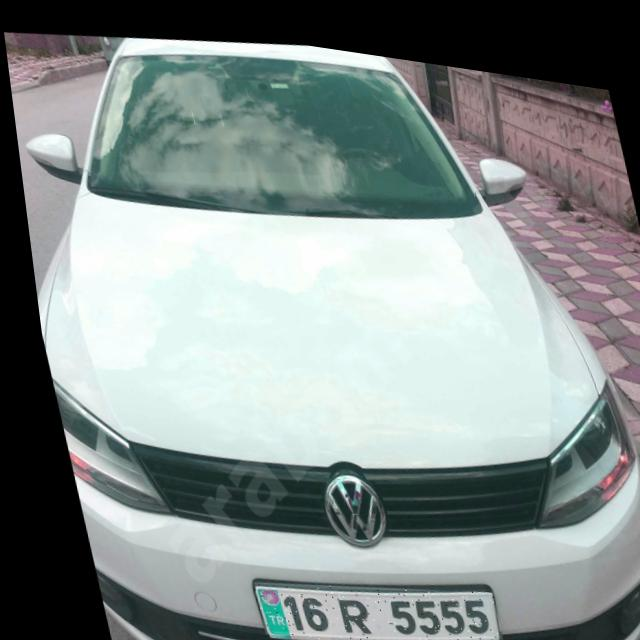license_plate: (237, 551, 491, 640)
